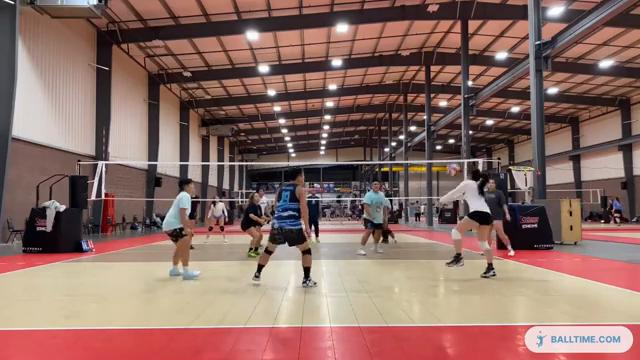ricezione: (431, 163, 503, 279)
